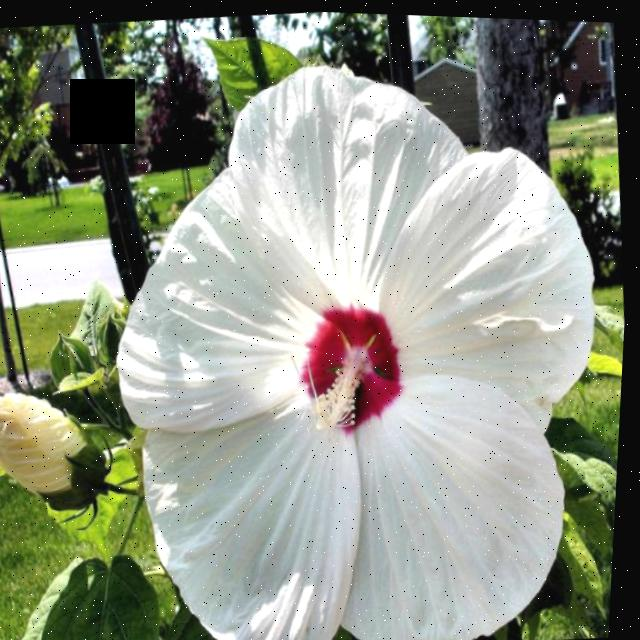hibiscus: (0, 0, 640, 640), (79, 16, 639, 640)
